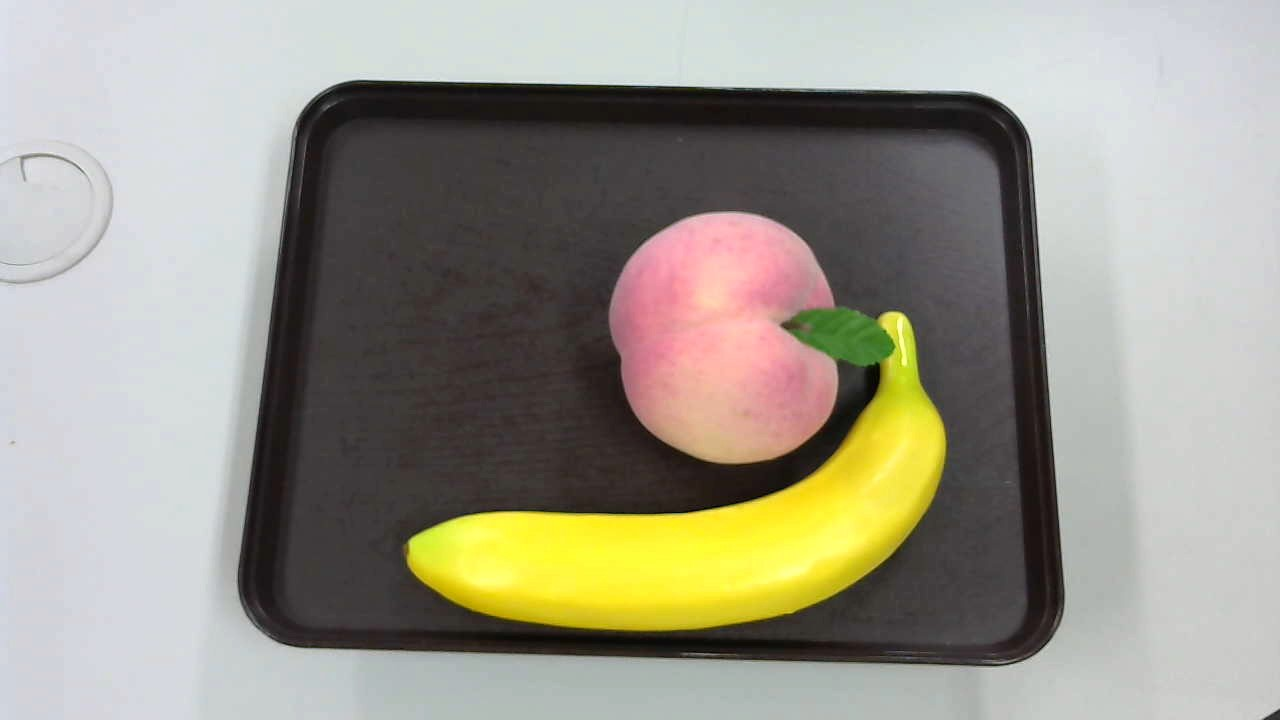banana: (395, 307, 959, 632)
peach: (602, 209, 896, 467)
